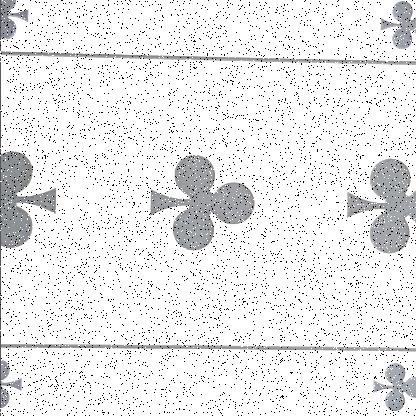3c: (353, 349, 415, 416), (357, 0, 415, 63)
